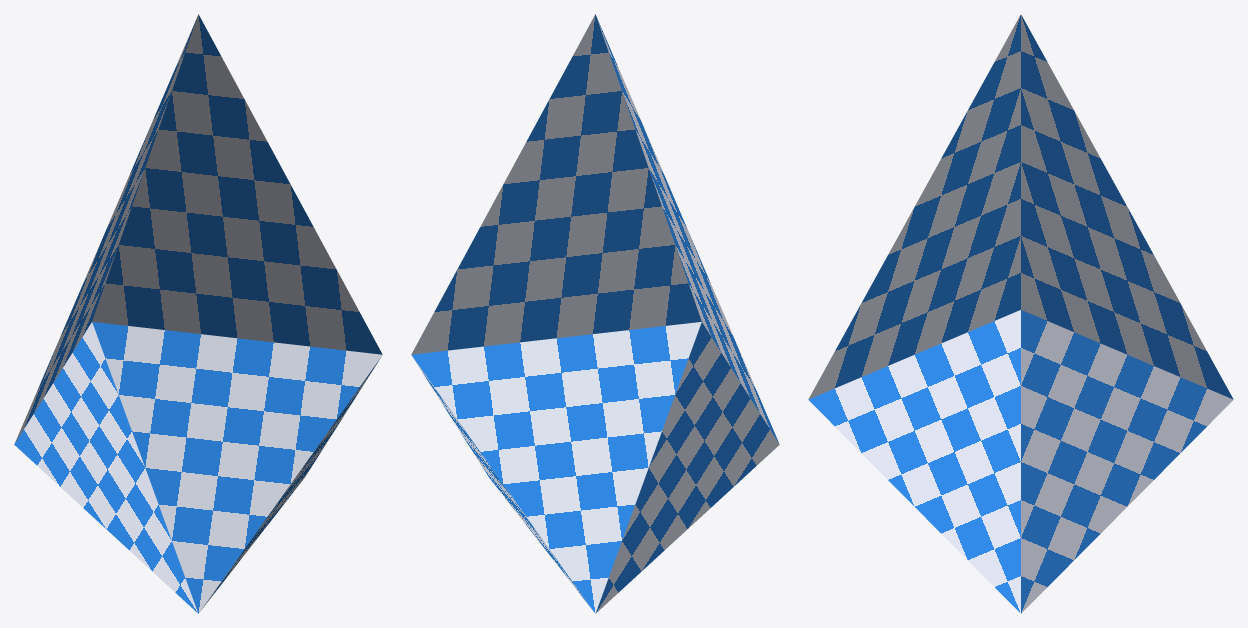
The model's file is demo_crystal.glb.
The picture shows the model from 3 angles, left to right: view 1: azimuth 30°, elevation 25°; view 2: azimuth 150°, elevation 25°; view 3: azimuth 270°, elevation 25°; orthographic projection.
Parts seen in each view (by area): view 1: TexturedCrystal; view 2: TexturedCrystal; view 3: TexturedCrystal.
Part boxes in pixels (x1,y1,x2,y2): TexturedCrystal: (14,14,382,613); TexturedCrystal: (411,14,779,613); TexturedCrystal: (808,14,1233,613).
Size of the model in its own units: 1.8 by 2.8 by 1.8.
1 material, 1 textured.
